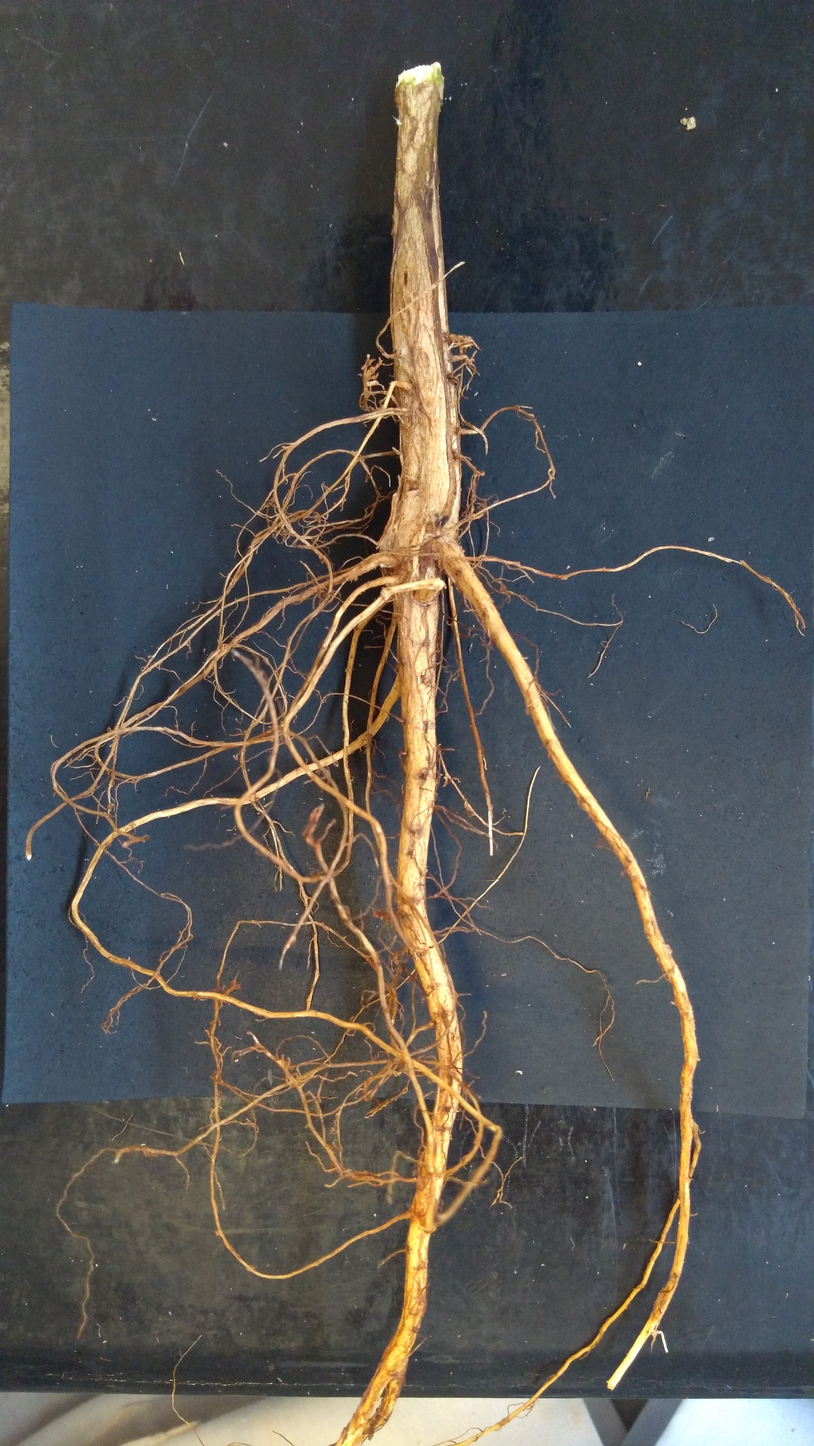nodule: (414, 588, 437, 603), (681, 116, 697, 130), (514, 1070, 523, 1076)
